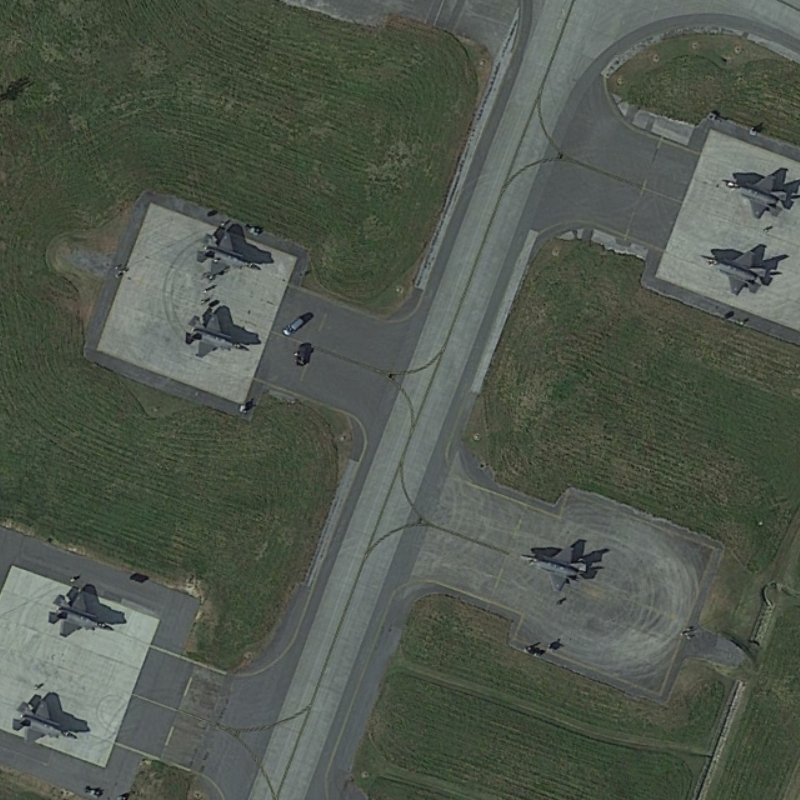A15: (515, 532, 603, 597), (37, 578, 119, 646), (191, 216, 270, 285), (694, 240, 784, 300), (179, 300, 254, 370), (6, 689, 83, 753), (715, 166, 797, 223)
